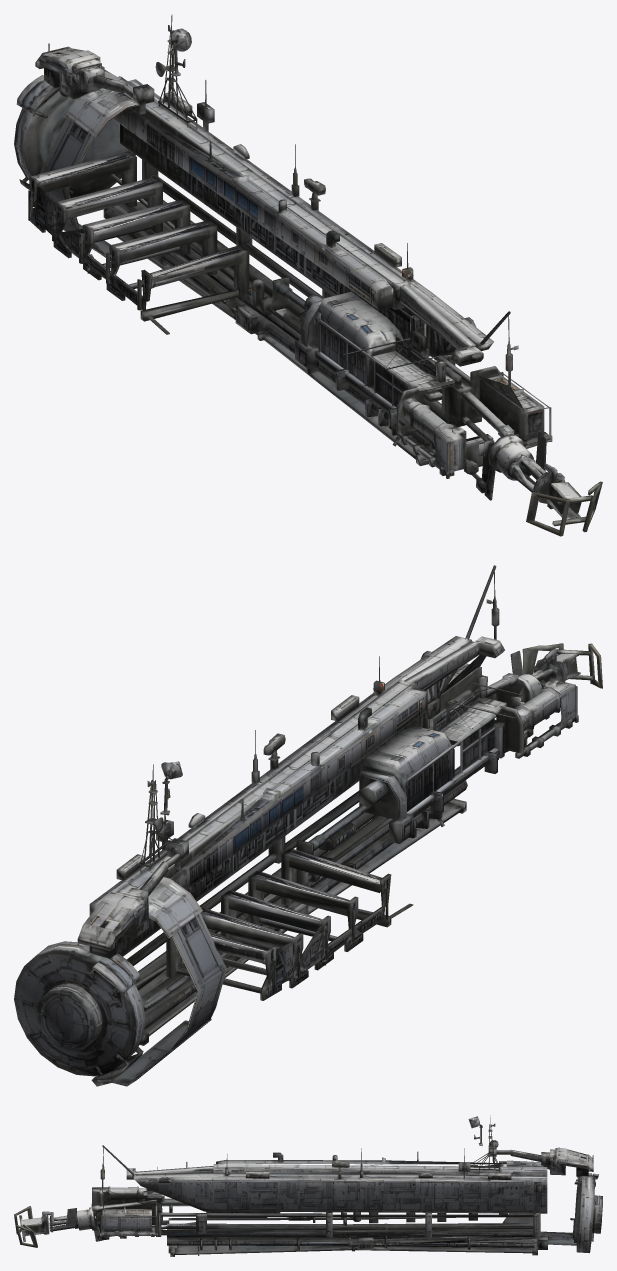
Rendered from arm2.glb.
The picture shows the model from 3 angles, top to bottom: view 1: azimuth 30°, elevation 25°; view 2: azimuth 150°, elevation 25°; view 3: azimuth 270°, elevation 25°; orthographic projection. The views are drawn at different scales.
Visible parts, largest first — view 1: tripo_5829cc30_e364_4a68_aba4_795184af608a; view 2: tripo_5829cc30_e364_4a68_aba4_795184af608a; view 3: tripo_5829cc30_e364_4a68_aba4_795184af608a.
Part boxes in pixels (bbox=[...]): tripo_5829cc30_e364_4a68_aba4_795184af608a: bbox=[14, 14, 602, 536]; tripo_5829cc30_e364_4a68_aba4_795184af608a: bbox=[14, 565, 602, 1086]; tripo_5829cc30_e364_4a68_aba4_795184af608a: bbox=[14, 1115, 602, 1256].
Size of the model in its own units: 0.2036 by 0.27 by 0.9995.
1 material, 1 textured.
